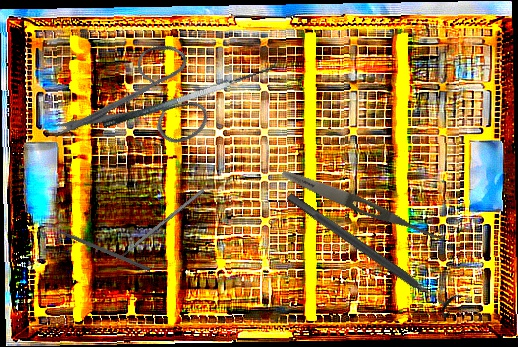Dressing Forceps: (279, 165, 448, 247)
Fixation Ring: (280, 183, 463, 320)
Hook Surgical: (46, 223, 152, 272)
Iris Scissors: (45, 13, 233, 205)
Pusher: (110, 188, 206, 266)
Spatula Surgical: (97, 52, 280, 130)
